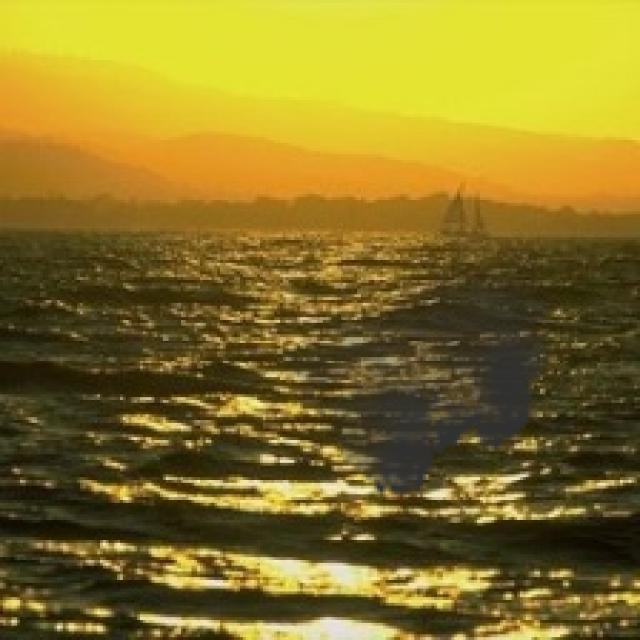smoke: (277, 226, 557, 508)
